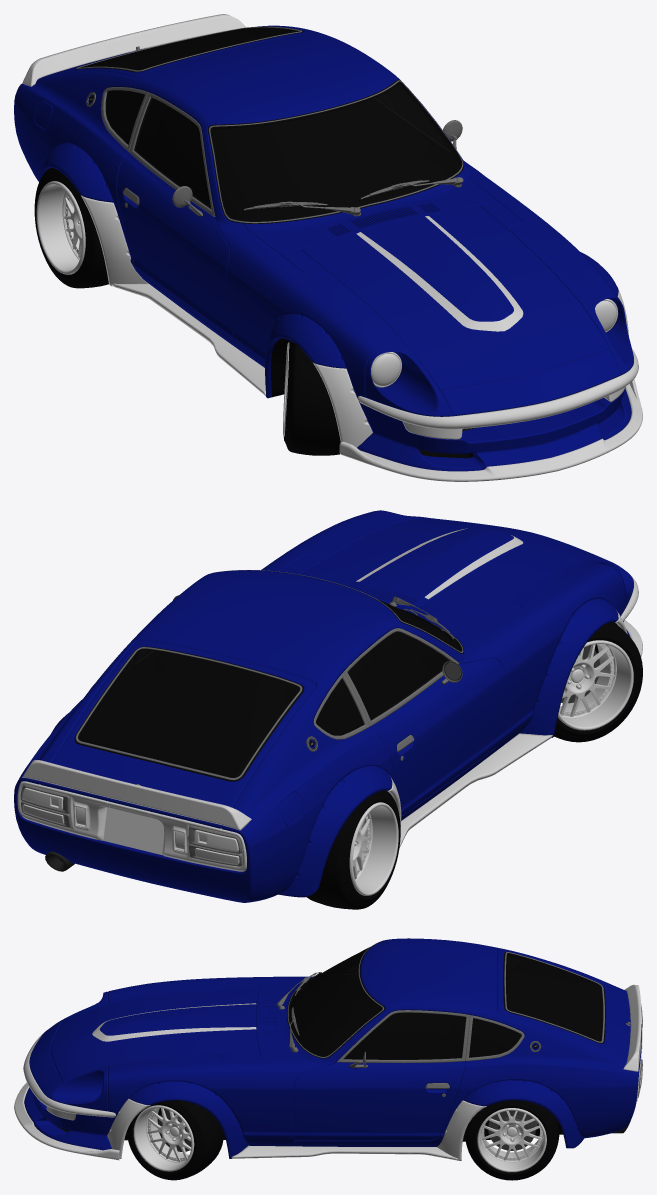
Rendered from Datsun_280Z.obj.
The picture shows the model from 3 angles, top to bottom: view 1: azimuth 30°, elevation 25°; view 2: azimuth 150°, elevation 25°; view 3: azimuth 270°, elevation 25°; orthographic projection. The views are drawn at different scales.
Parts seen in each view (by area): view 1: 280z_Body_Plane.027, SSR_Rim_RR_SSR_Rim.005, SSR_Rim_FR_SSR_Rim.002; view 2: 280z_Body_Plane.027, SSR_Rim_FR_SSR_Rim.002, SSR_Rim_RR_SSR_Rim.005; view 3: 280z_Body_Plane.027, SSR_Rim_FL_SSR_Rim, SSR_Rim_RL_SSR_Rim.004.
Part boxes in pixels (<box>): 280z_Body_Plane.027: <box>14,14,642,481</box>; SSR_Rim_RR_SSR_Rim.005: <box>34,167,108,288</box>; SSR_Rim_FR_SSR_Rim.002: <box>283,340,340,455</box>; 280z_Body_Plane.027: <box>14,510,642,902</box>; SSR_Rim_FR_SSR_Rim.002: <box>554,622,642,742</box>; SSR_Rim_RR_SSR_Rim.005: <box>306,790,400,909</box>; 280z_Body_Plane.027: <box>14,938,642,1160</box>; SSR_Rim_FL_SSR_Rim: <box>127,1100,223,1180</box>; SSR_Rim_RL_SSR_Rim.004: <box>464,1100,559,1180</box>.
Size of the model in its own units: 1.71 by 1.03 by 3.62.
